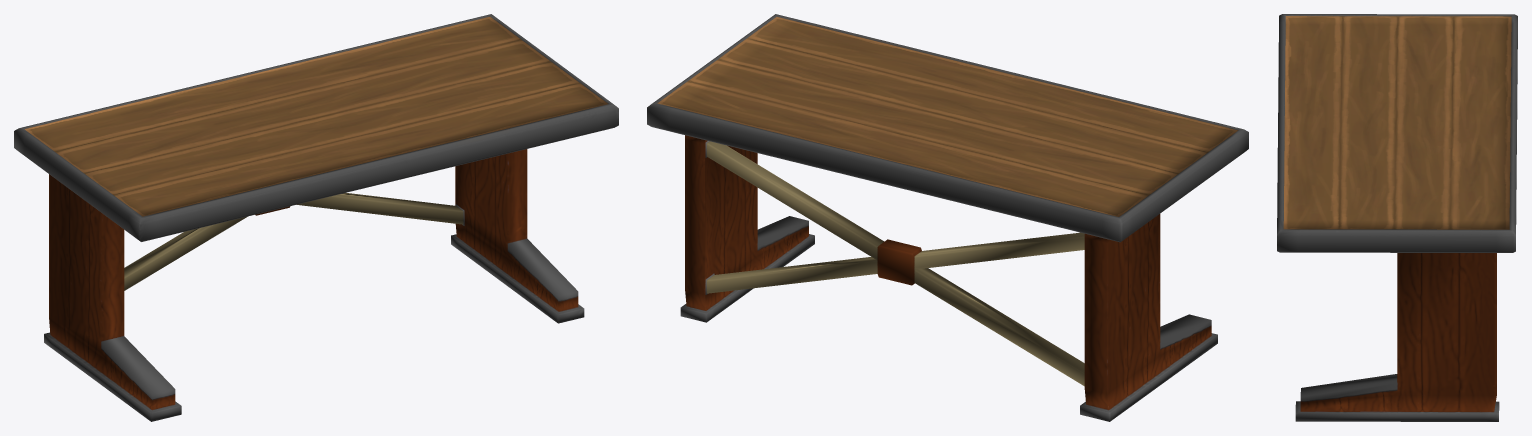
File: Workbench.fbx
3 views of the same model, side by side, from view 1: azimuth 30°, elevation 25°; view 2: azimuth 150°, elevation 25°; view 3: azimuth 270°, elevation 25° (orthographic). The views are drawn at different scales.
Parts seen in each view (by area): view 1: Workbench; view 2: Workbench; view 3: Workbench.
Boxes of the visible parts, x1,y1,x2,y2 form: Workbench: (14, 14, 618, 421); Workbench: (647, 14, 1248, 421); Workbench: (1277, 14, 1517, 421).
Size of the model in its own units: 225 by 95.89 by 104.
Materials: 1 (1 with a texture image).
